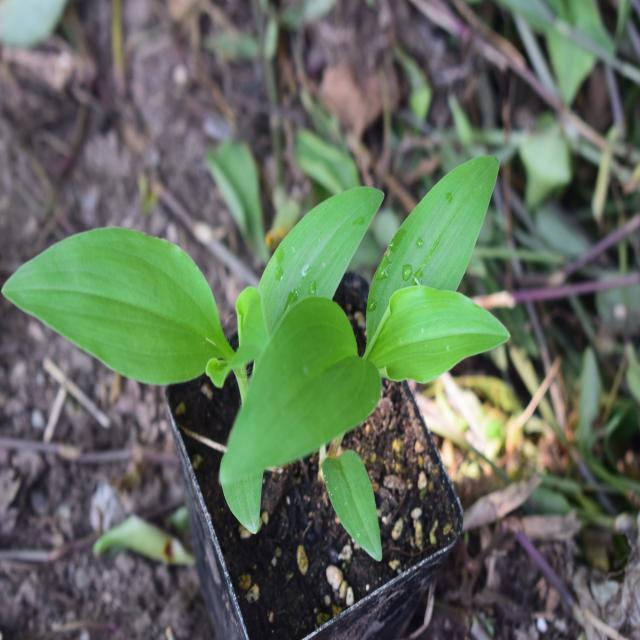Common Dayflower: (14, 168, 499, 521)
